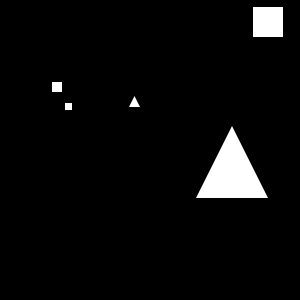circle: (253, 7, 283, 37), (52, 82, 62, 92), (65, 103, 72, 110)
triangle: (196, 126, 268, 198), (129, 96, 140, 107)
